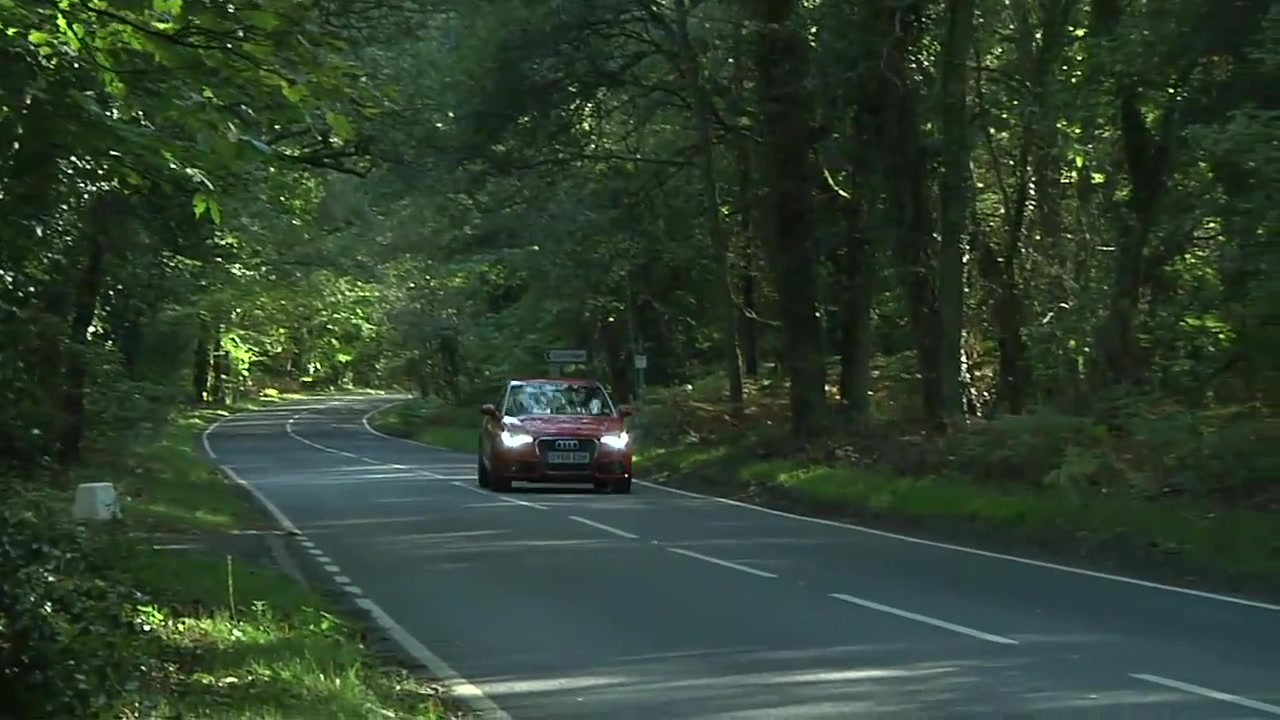car: (478, 375, 637, 495)
